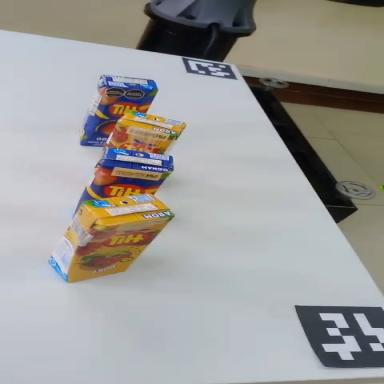HIT-MANGO: (66, 137, 178, 209), (80, 73, 158, 153)
HIT-MORA: (35, 162, 175, 307), (104, 107, 185, 159)
cara_F: (59, 212, 181, 283), (77, 69, 158, 165), (83, 160, 173, 200), (107, 121, 178, 162)
